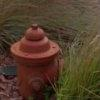Hydrant: (7, 15, 78, 100)
